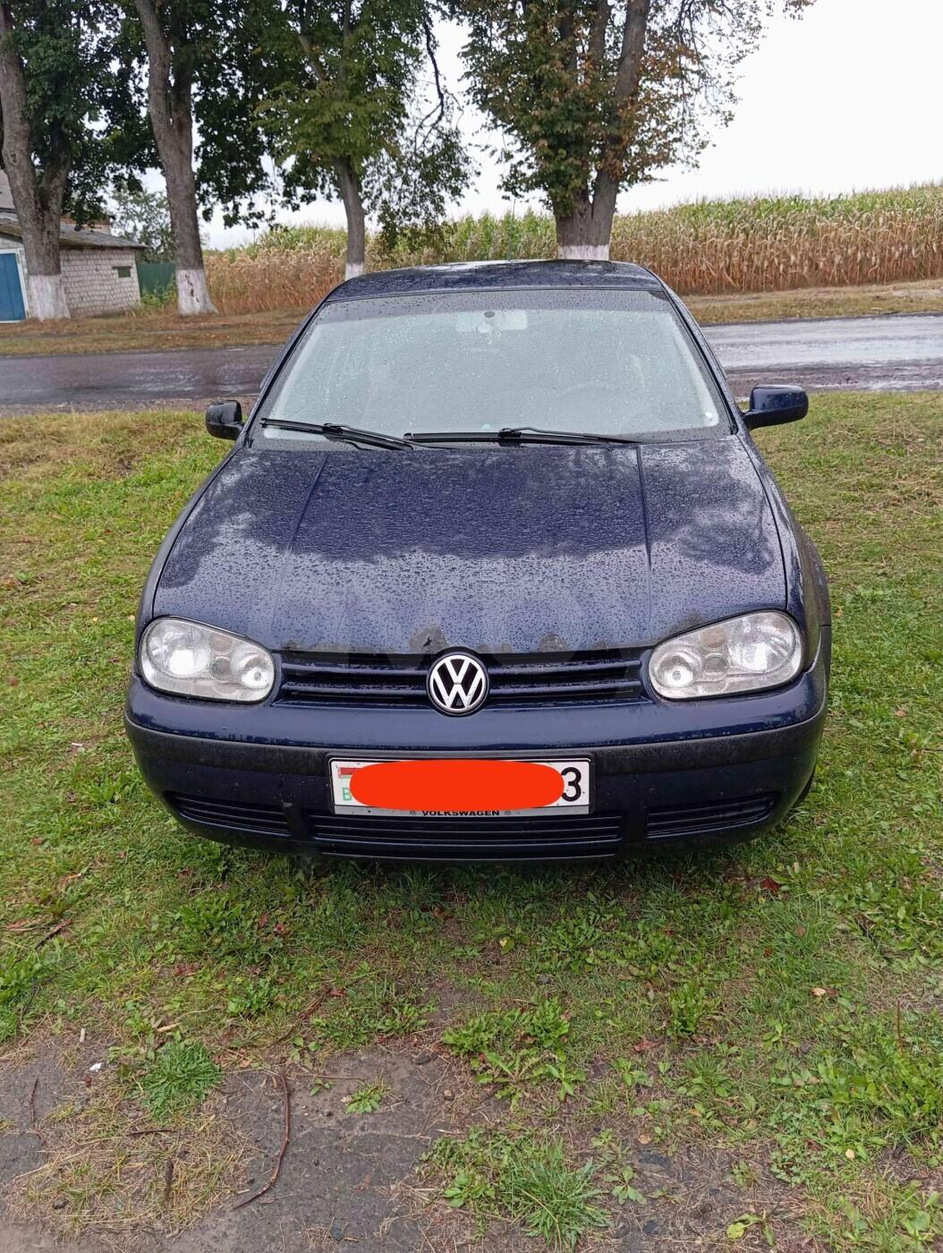Golf_1997-2006: (119, 256, 853, 872)
